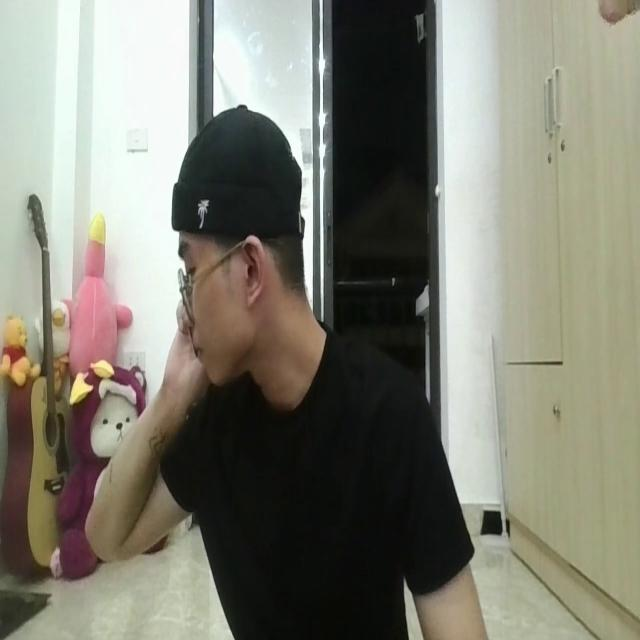student: (83, 103, 502, 640)
